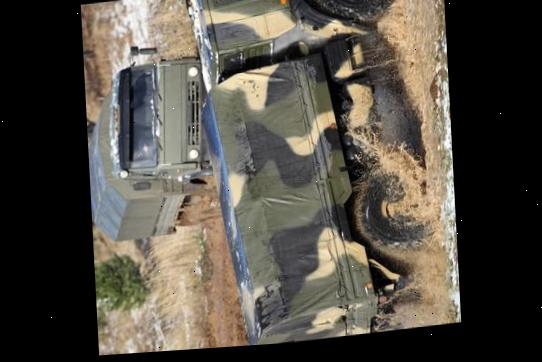truck: (182, 0, 441, 350), (83, 36, 217, 245)
